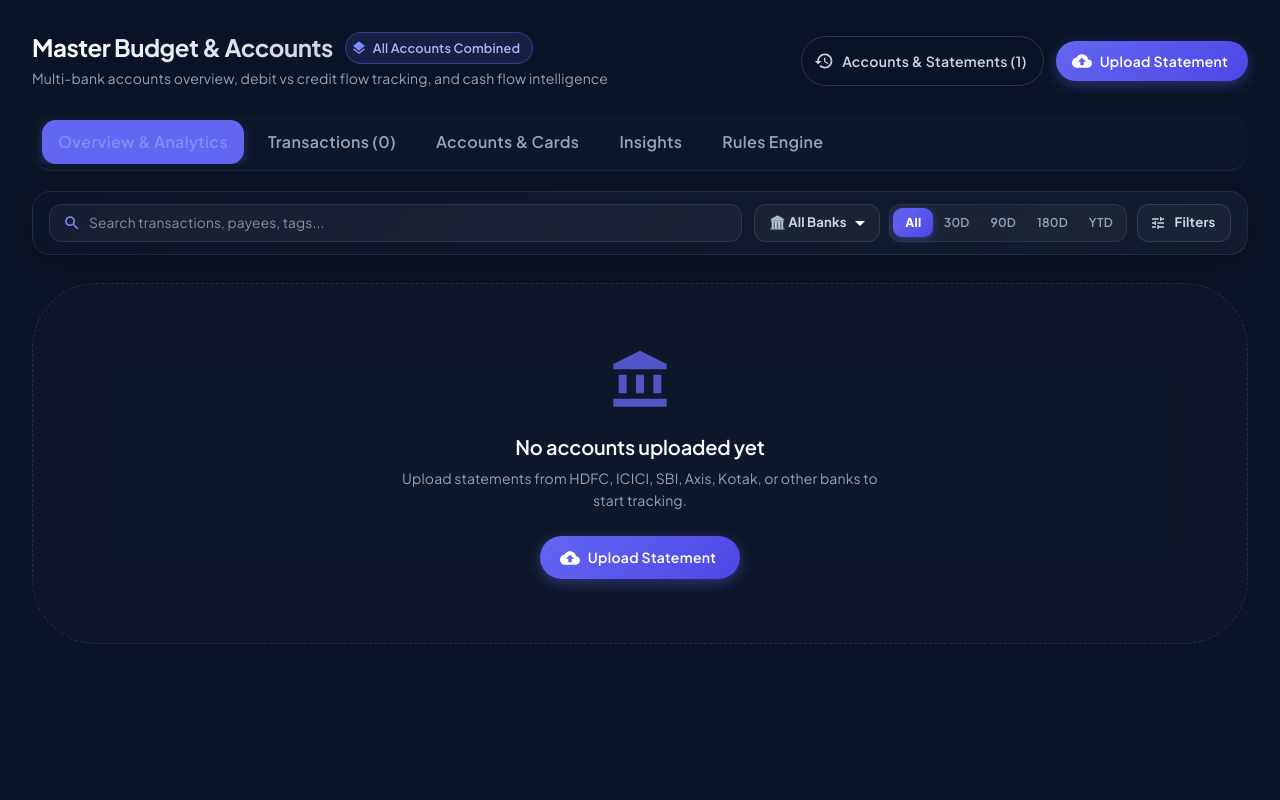
BudgetDashboard › shows filter-empty state and resets filters
Expected: the heading "Master Budget & Accounts" is shown, top-left (32, 33), bottom-right (333, 63)
Click the button "30D" at (957, 223), box top-left (933, 208), bottom-right (980, 237)
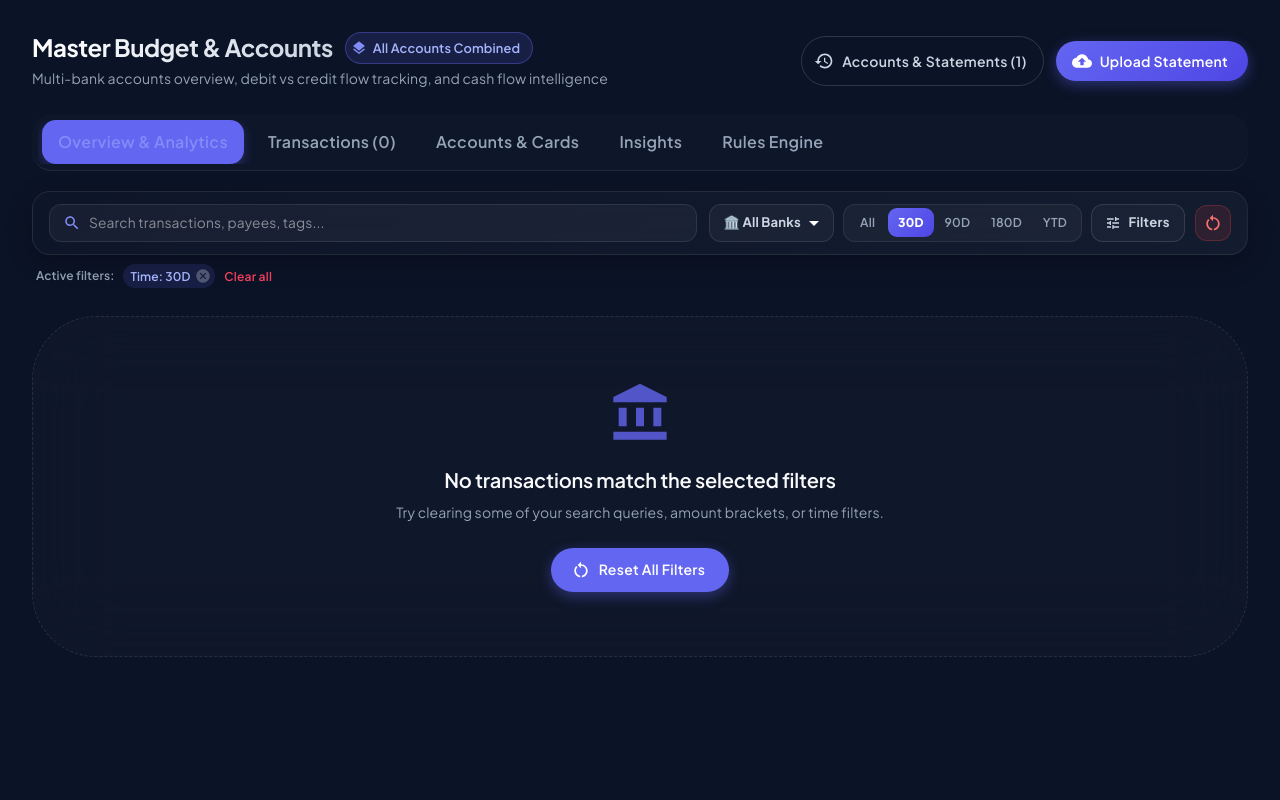
Expected: the heading "No transactions match the selected filters" is shown, top-left (444, 468), bottom-right (836, 492)
Click the button named "Reset All Filters" at (1213, 223), box top-left (1195, 204), bottom-right (1231, 241)
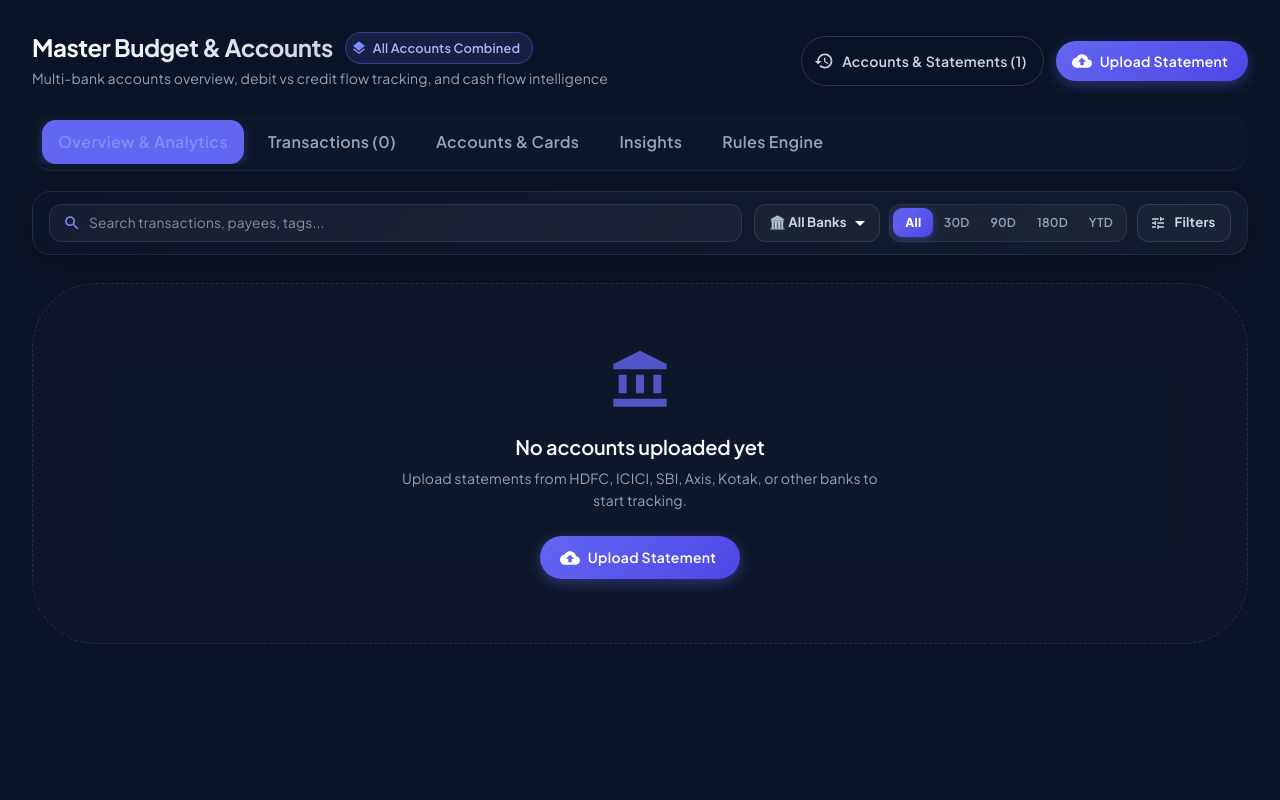
Expected: the heading "No transactions match the selected filters" is gone
